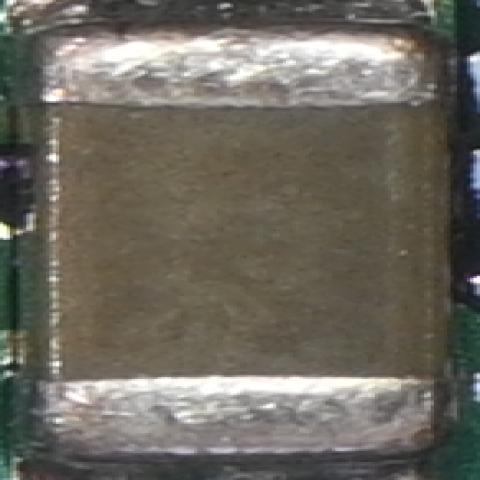Capacitor: (29, 28, 452, 457)
